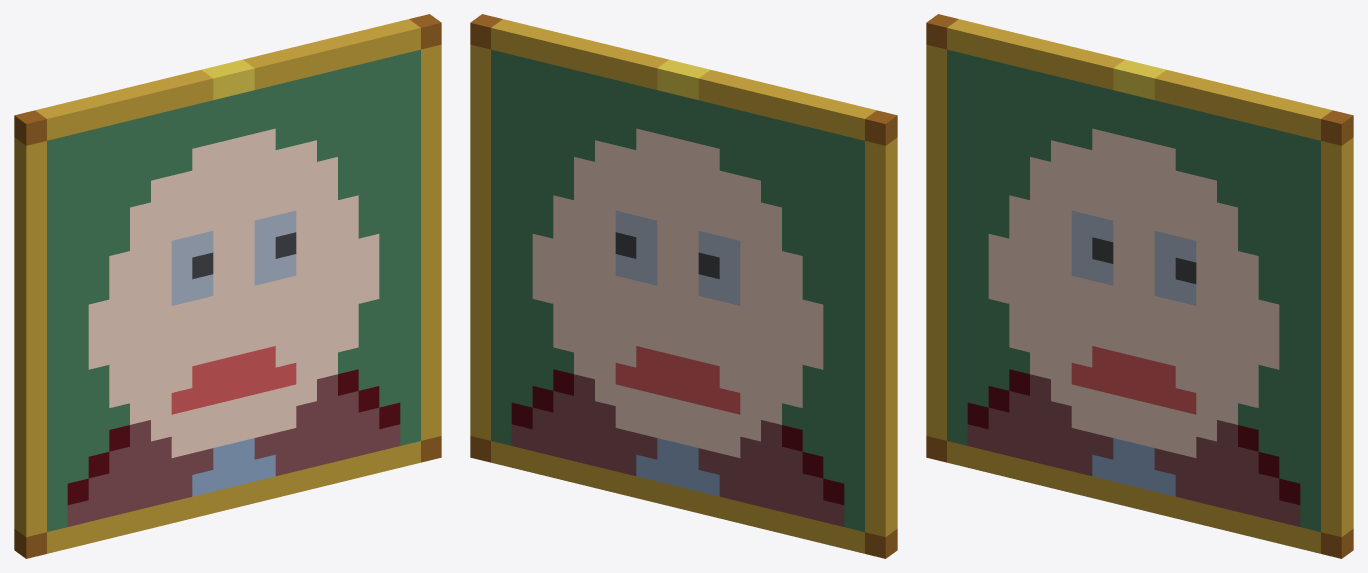
Rendered from portrait4.obj.
3 views of the same model, side by side, from view 1: azimuth 30°, elevation 25°; view 2: azimuth 150°, elevation 25°; view 3: azimuth 330°, elevation 25° (orthographic).
Size of the model in its own units: 2 by 2 by 0.1.
1 material, 1 textured.
